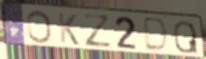2: (114, 14, 142, 53)
D: (143, 16, 171, 54)
K: (57, 12, 81, 47)
O: (26, 10, 54, 45)
Q: (173, 20, 200, 55)
Z: (81, 12, 114, 48)
